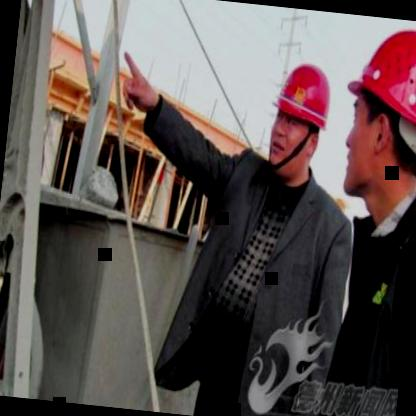helmet: (323, 13, 416, 226), (257, 38, 340, 194)
